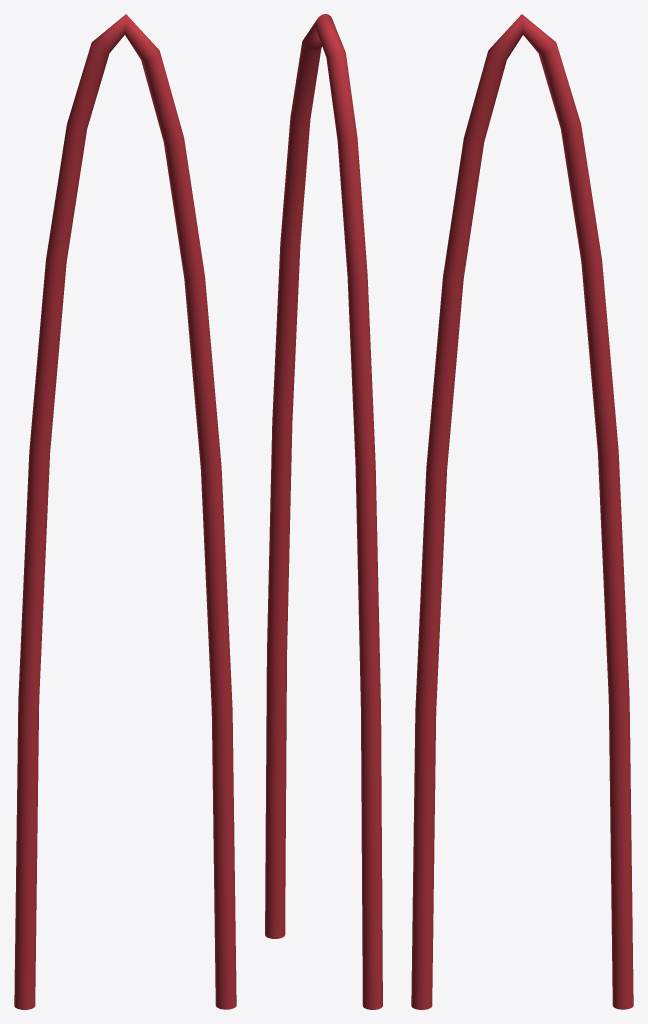
The model's file is spike6.gltf.
3 views of the same model, side by side, from view 1: azimuth 90°, elevation 25°; view 2: azimuth 210°, elevation 25°; view 3: azimuth 270°, elevation 25° (orthographic). The views are drawn at different scales.
Visible parts, largest first — view 1: spike6; view 2: spike6; view 3: spike6.
Part boxes in pixels (box(x1,y1,x2,y2)): spike6: box(14, 14, 236, 1009); spike6: box(265, 14, 382, 1009); spike6: box(411, 14, 633, 1009).
Bounding box in the file's own units: 0.0323 × 1.63 × 0.3311.
